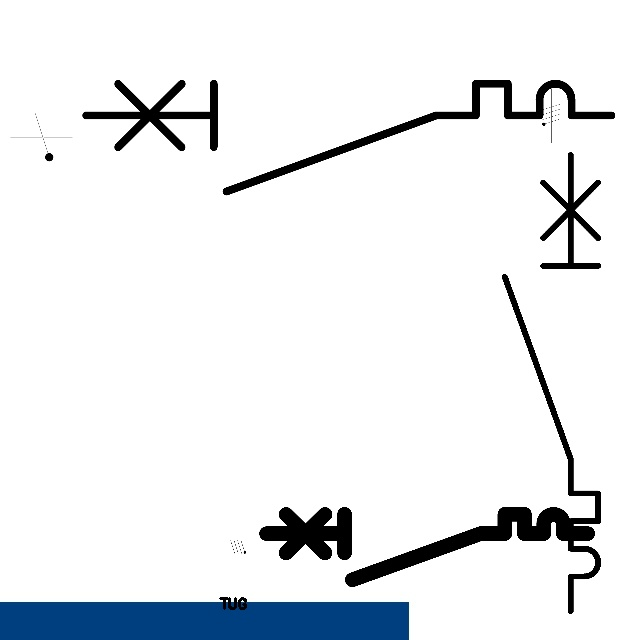interruptor_termomagnetico: (72, 70, 625, 205), (493, 143, 610, 623), (258, 506, 595, 588)
